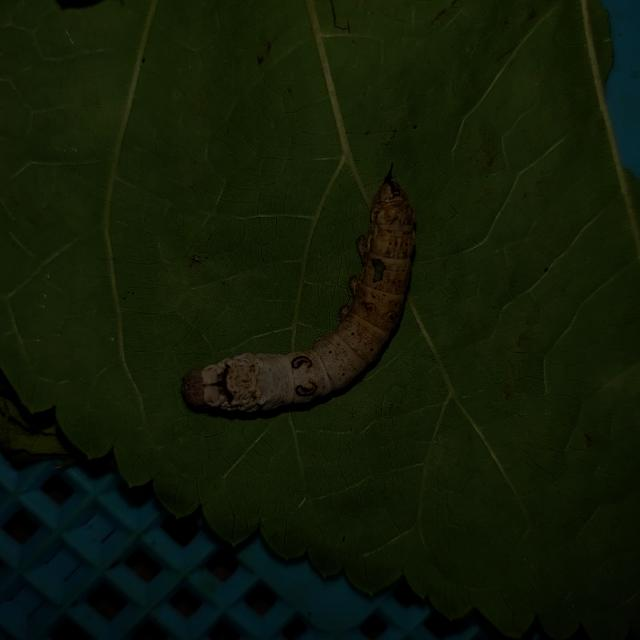Grasserie: (172, 156, 458, 484)
